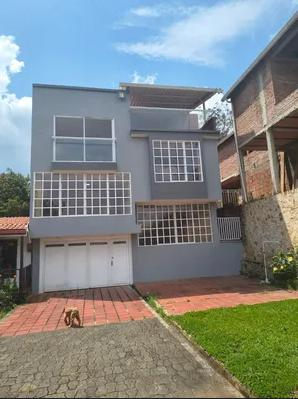casa: (21, 59, 241, 300)
